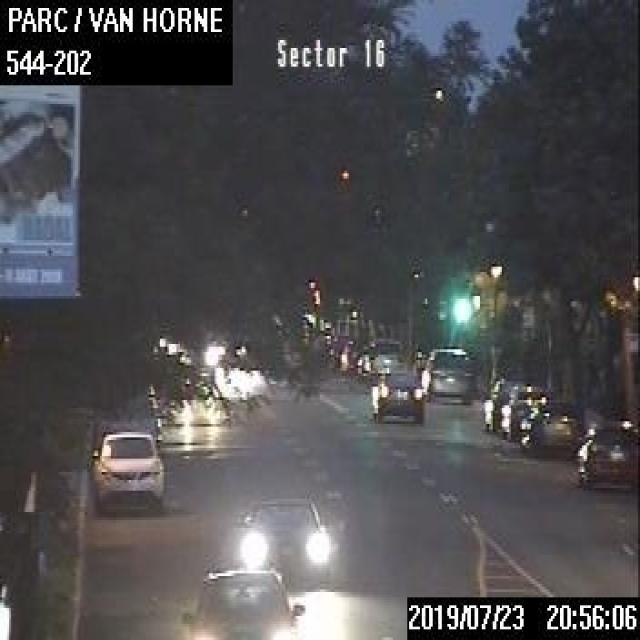vehicle: (234, 494, 330, 584), (182, 566, 303, 637), (89, 427, 164, 515), (574, 420, 638, 488), (419, 344, 472, 402), (369, 369, 423, 423), (500, 382, 551, 438), (527, 399, 575, 451), (482, 376, 523, 432), (360, 334, 399, 374), (338, 337, 361, 373)
